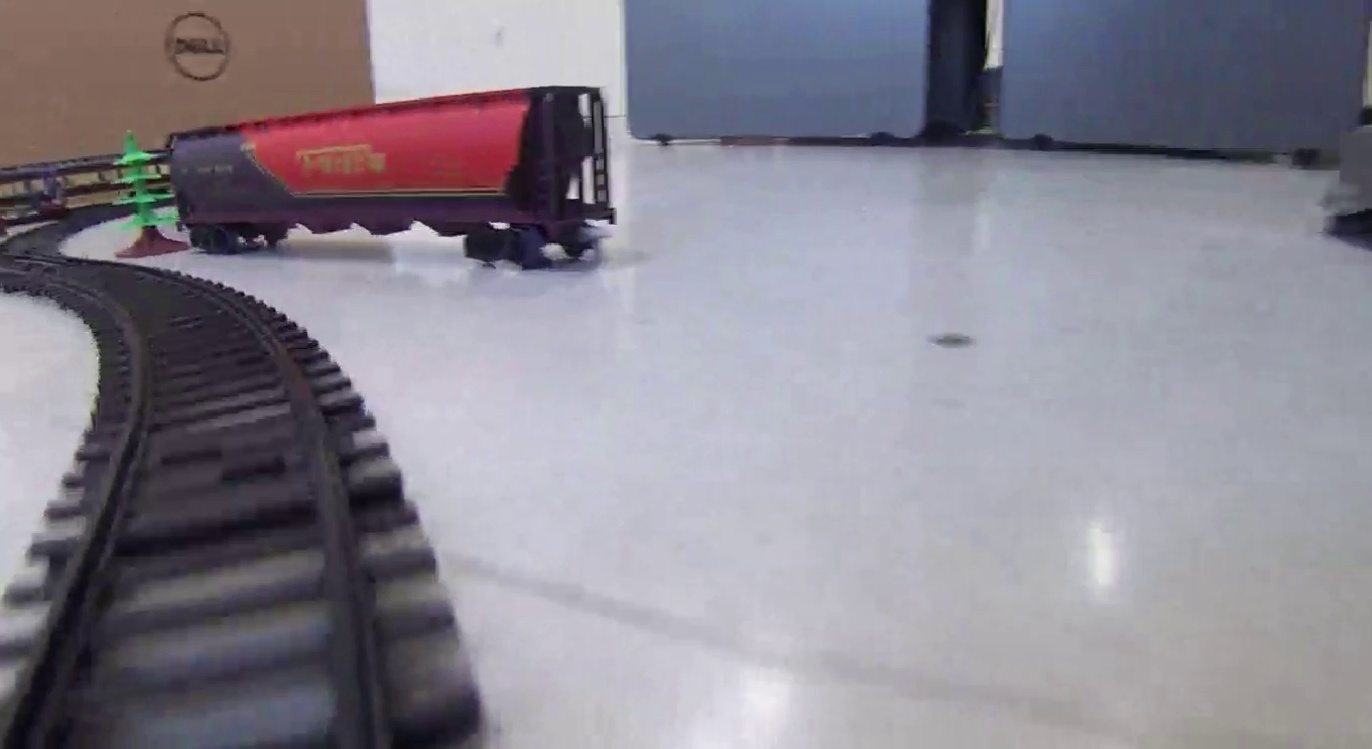tree: (108, 132, 184, 255)
